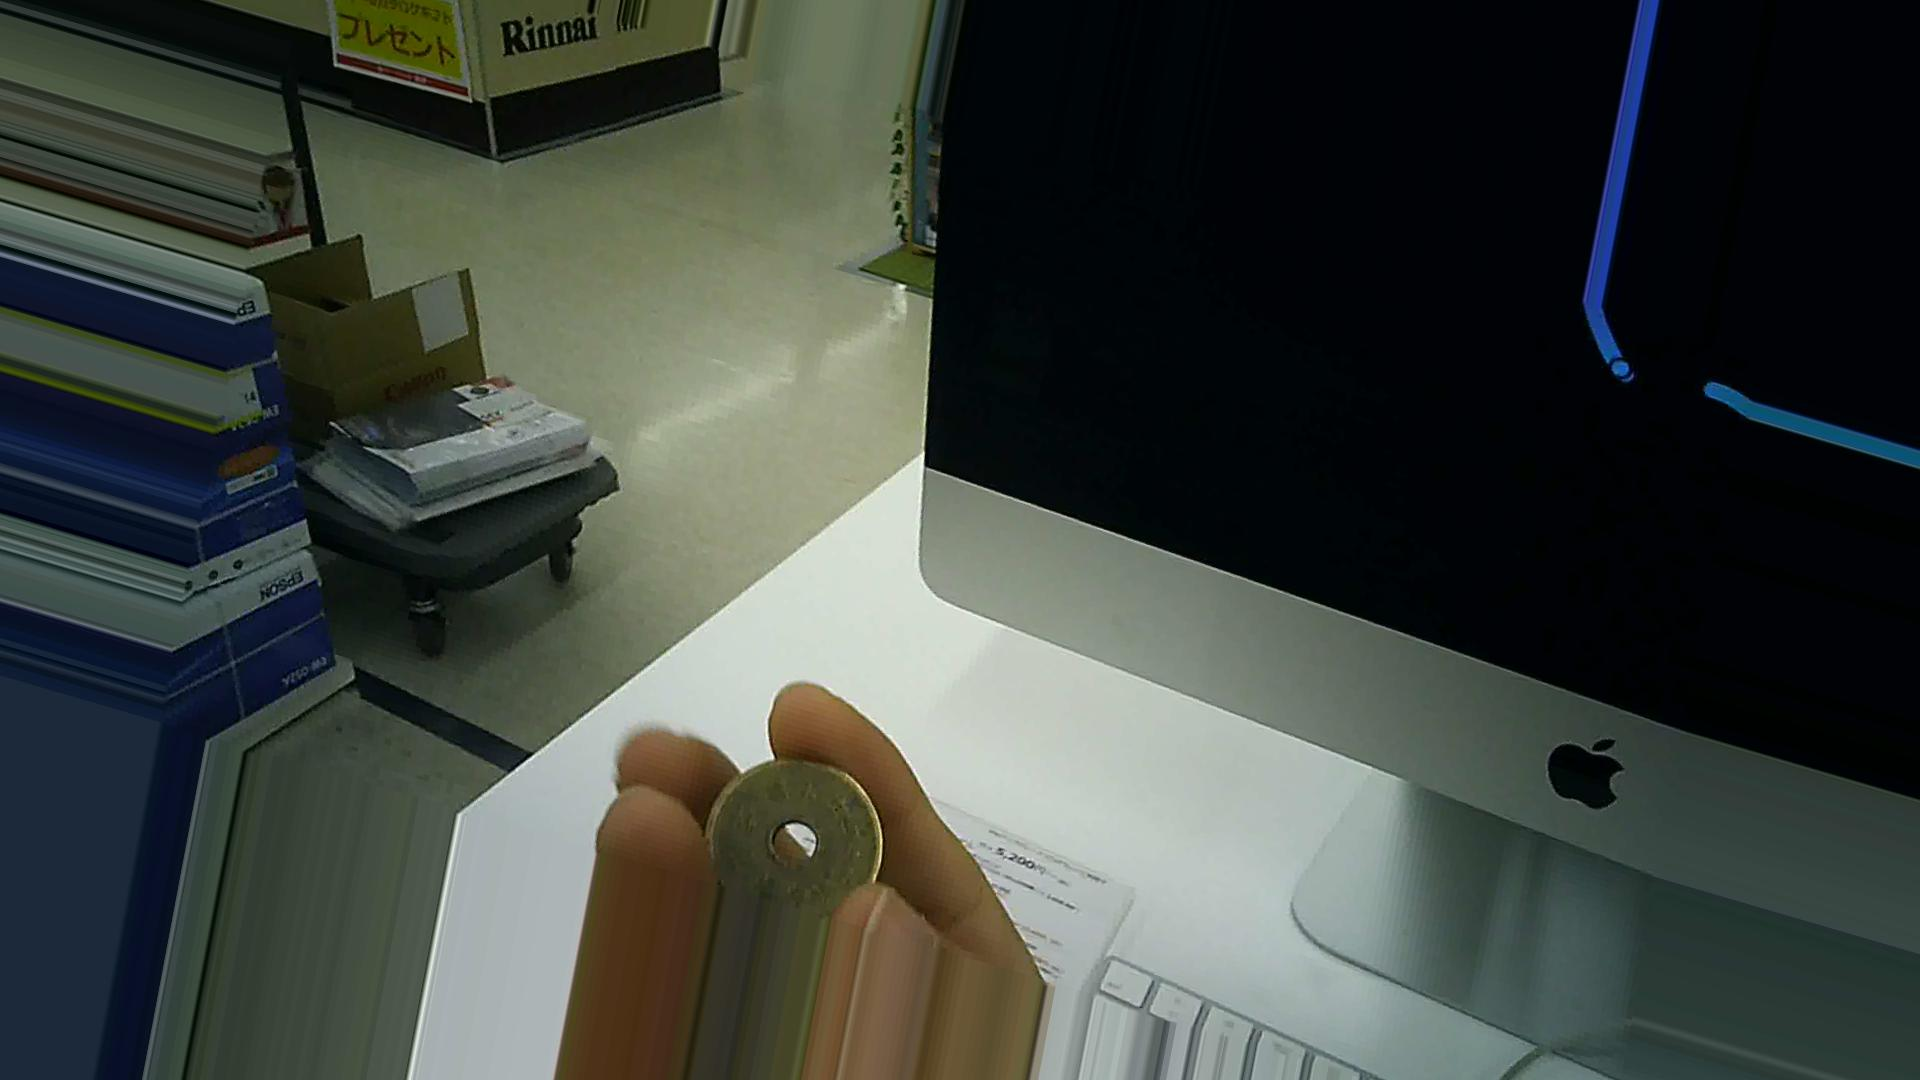5 Yen: (702, 752, 886, 909)
